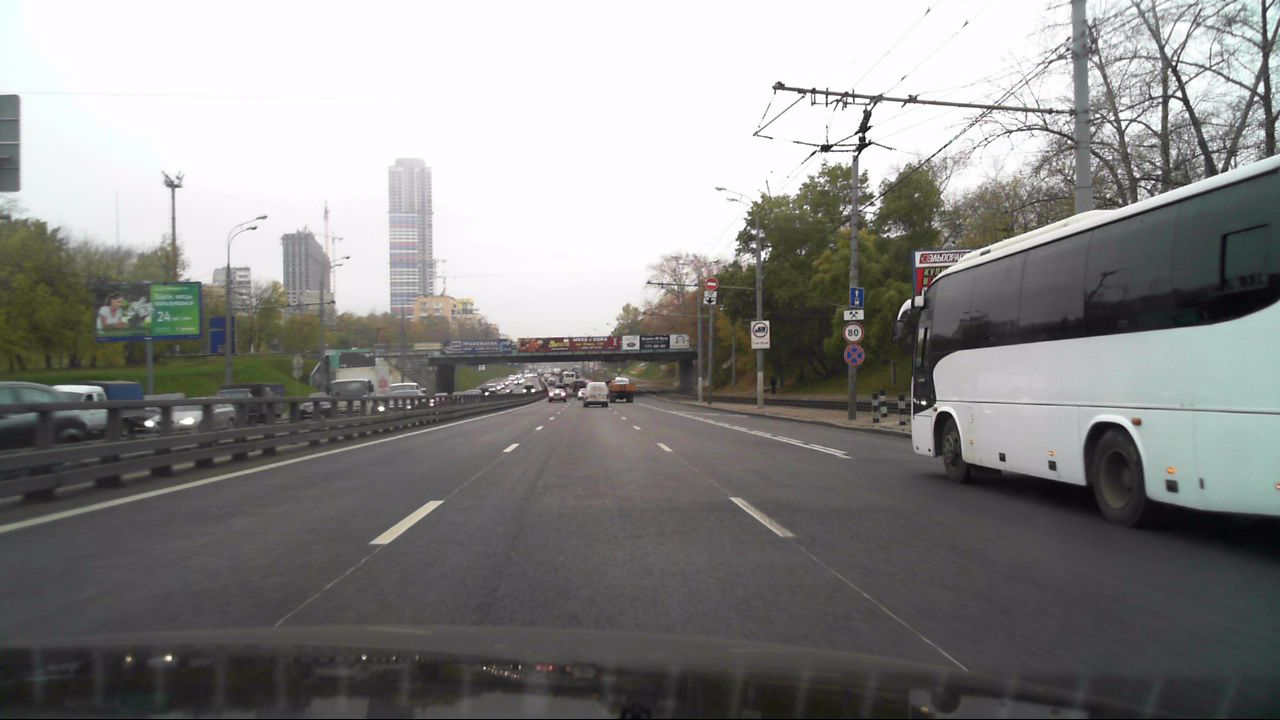No Parking: (843, 343, 864, 365)
